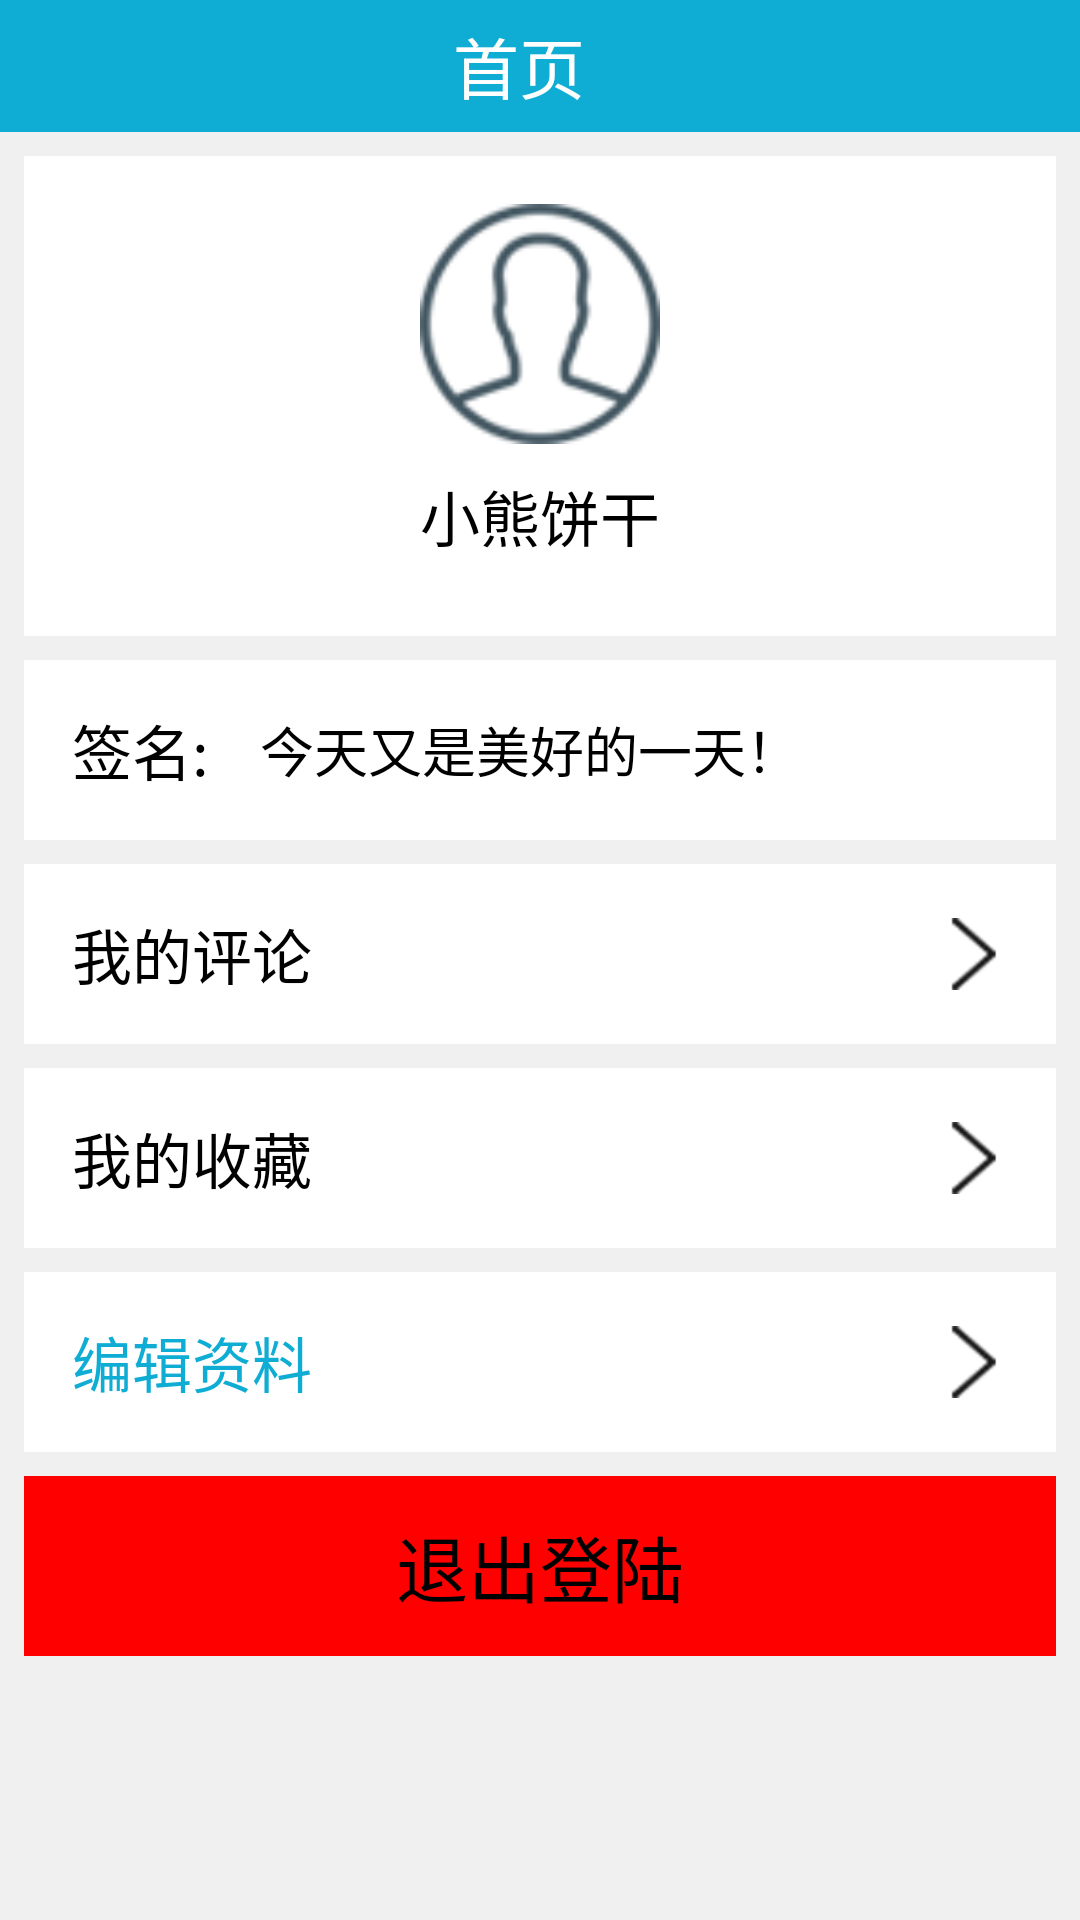

Where to tap for icons on this 1080w x 1920h app screen, as (x=x, y=y):
feedback touxiang: (x=540, y=324)
personal arrow: (x=973, y=954), (x=973, y=1158), (x=973, y=1362)
